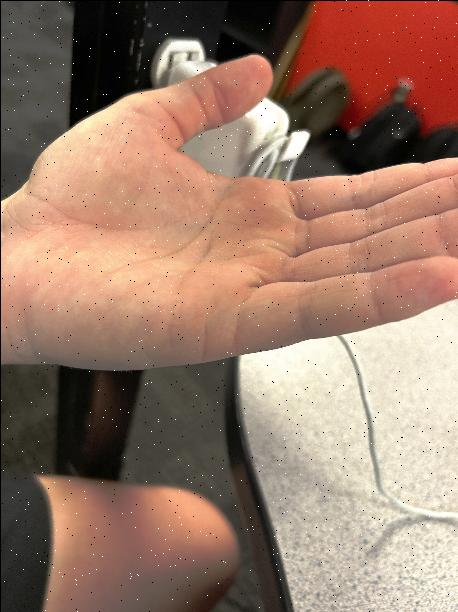Paper: (0, 27, 455, 436)
